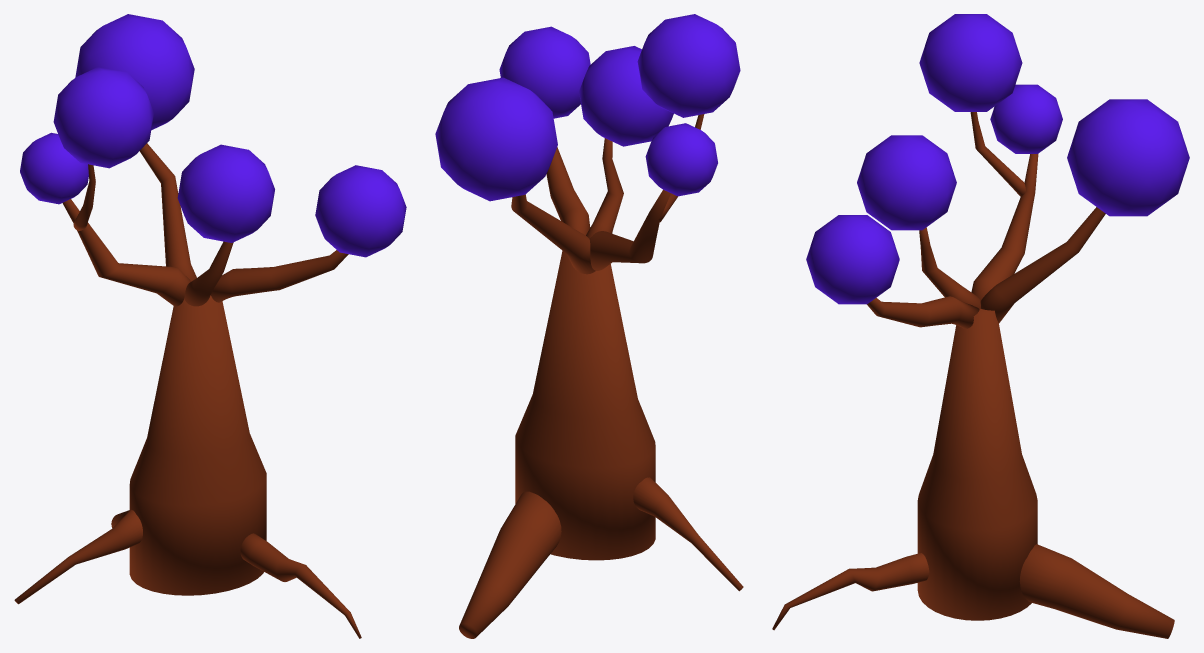
Rendered from derevo2Kosmos.fbx.
The picture shows the model from 3 angles, left to right: view 1: azimuth 30°, elevation 25°; view 2: azimuth 150°, elevation 25°; view 3: azimuth 270°, elevation 25°; orthographic projection. The views are drawn at different scales.
Parts seen in each view (by area): view 1: Цилиндр; view 2: Цилиндр; view 3: Цилиндр.
Part boxes in pixels (bbox=[...]): Цилиндр: bbox=[14, 14, 406, 638]; Цилиндр: bbox=[435, 14, 743, 638]; Цилиндр: bbox=[772, 14, 1189, 638].
Size of the model in its own units: 1176 by 2056 by 1378.
